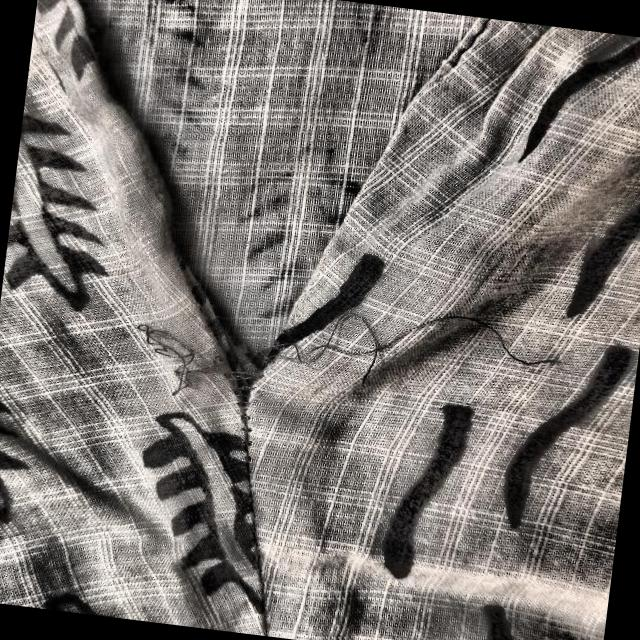gray stitch: (60, 266, 603, 462)
